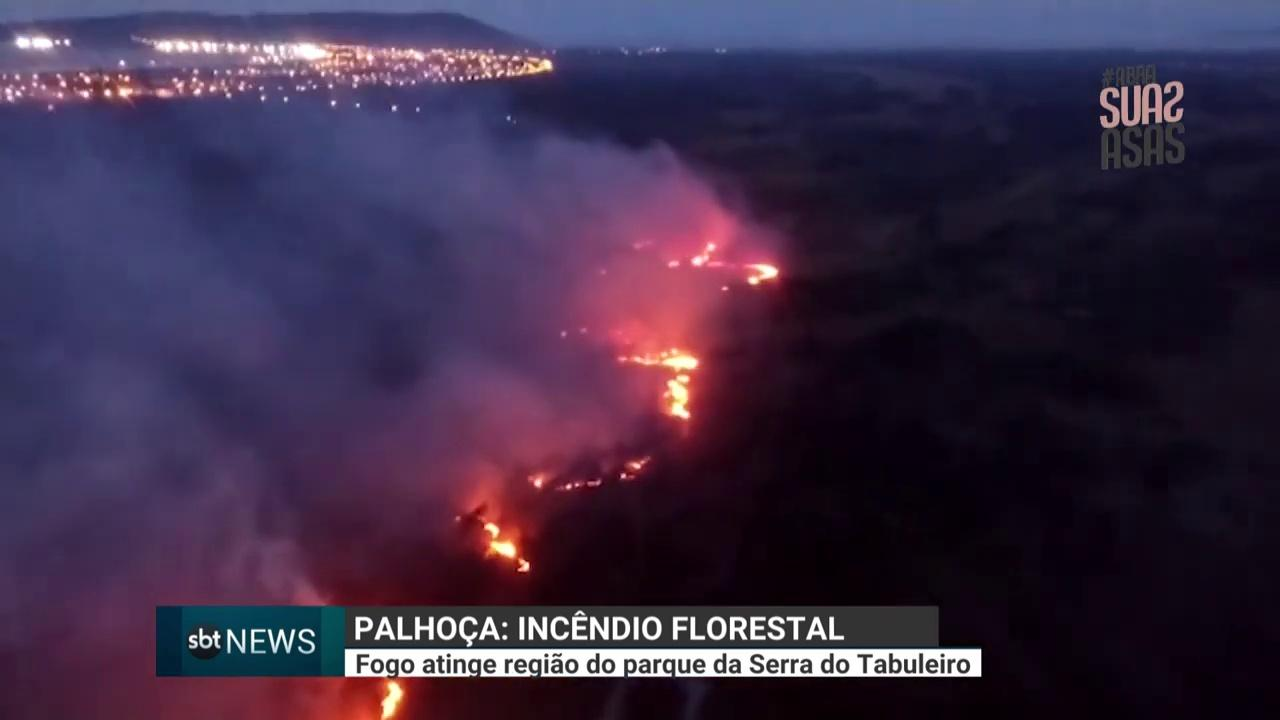fire: (588, 189, 804, 480)
smoke: (7, 122, 529, 596)
